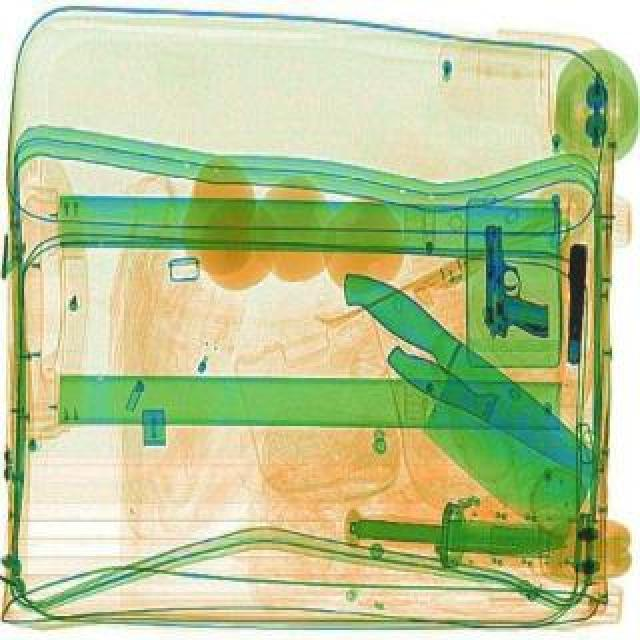gun: (480, 224, 548, 336), (560, 242, 590, 362)
knife: (288, 254, 632, 544), (378, 338, 614, 484), (352, 508, 568, 556)
